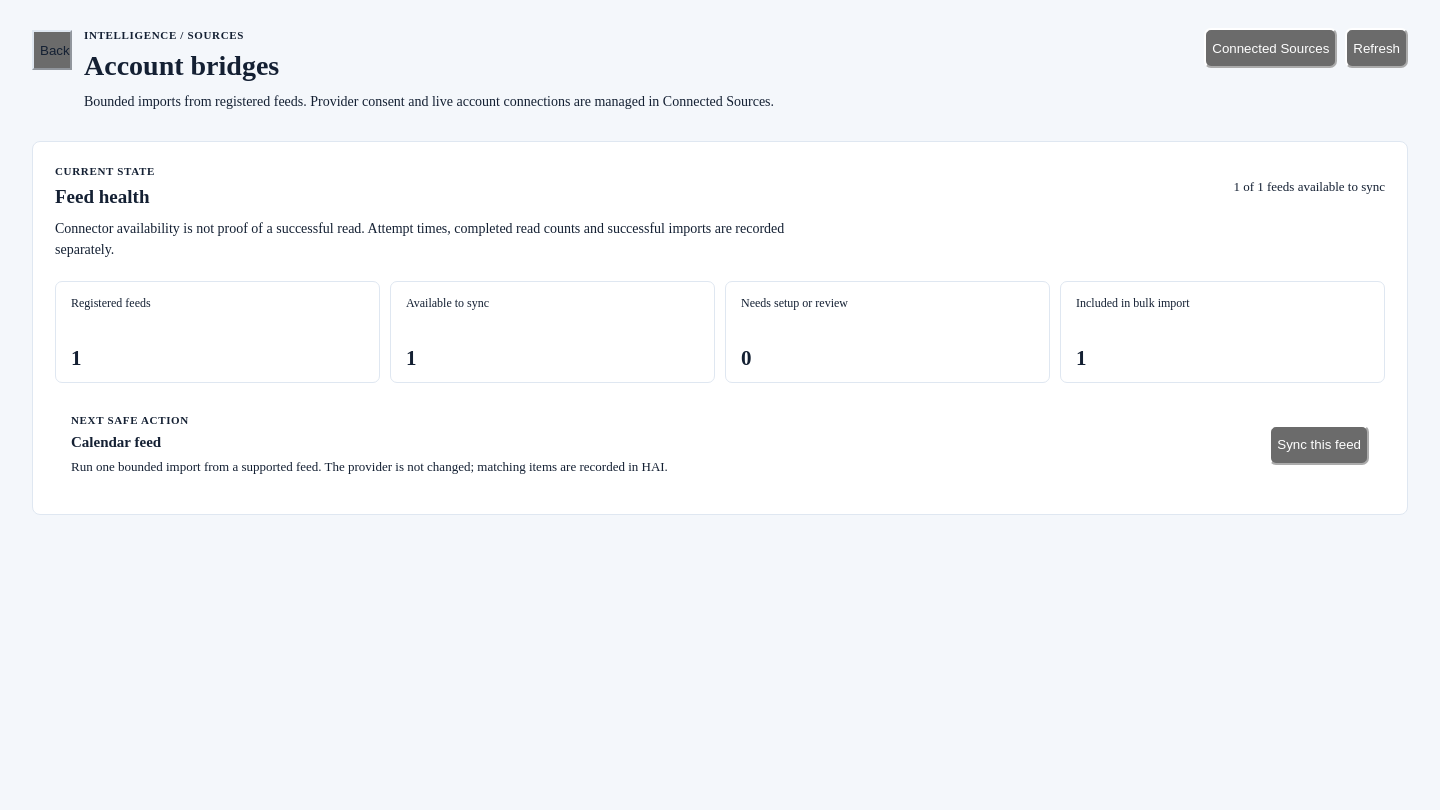
Test: AccountBridgesComponent › keeps the existing feed view and exposes a retry when status refresh fails
Click the button "Refresh".
click(1377, 48)  # box 1345,28 -> 1408,68
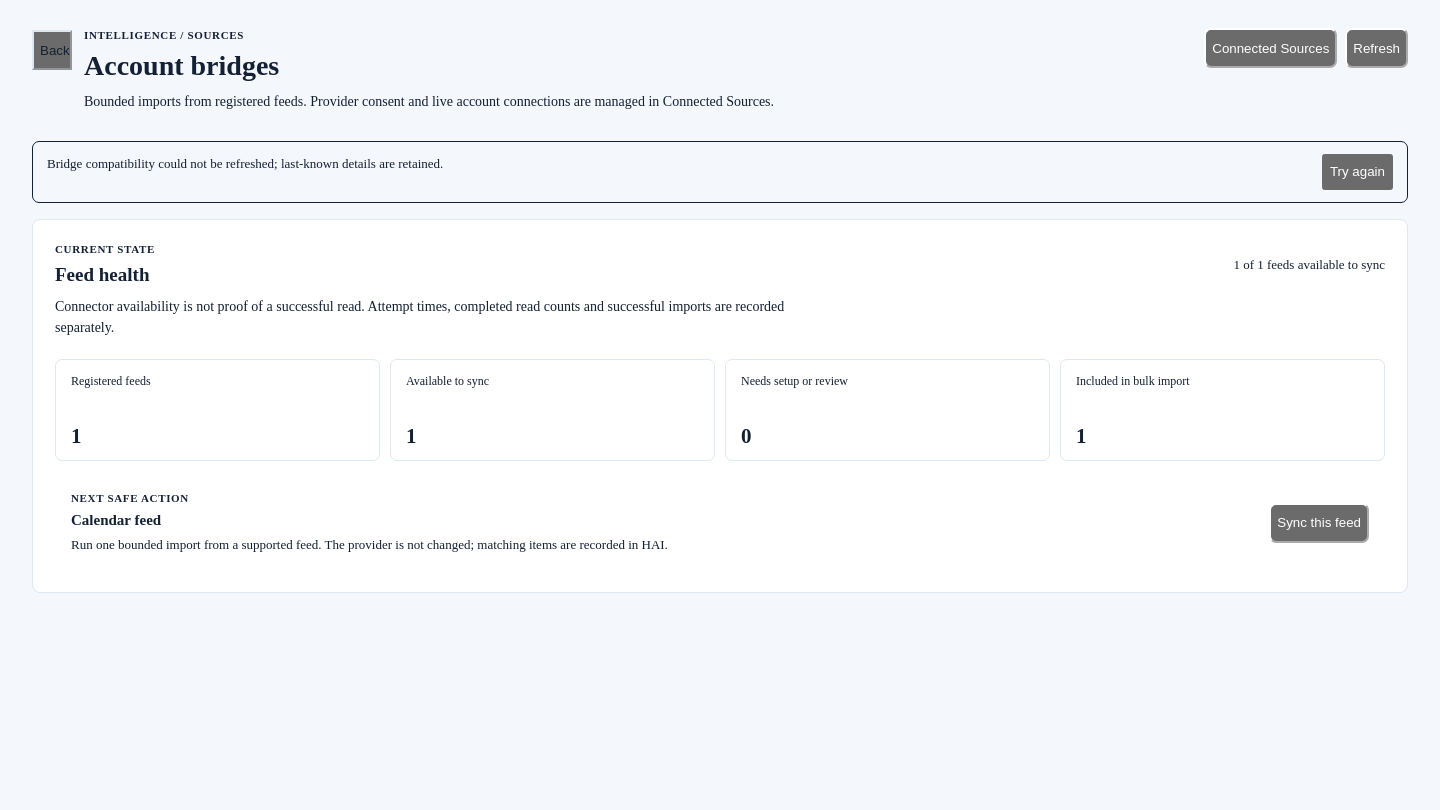
Expected: the 1st message shows "last-known details are retained", 47,156 -> 443,171
Expected: the button "Try again" is shown, 1322,154 -> 1393,190
